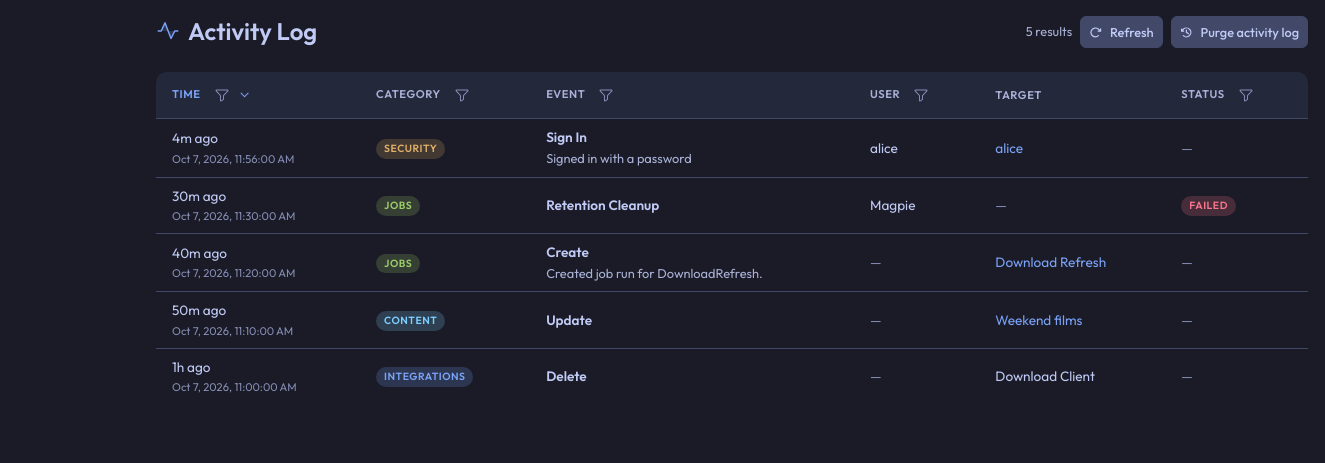
ActivityLogPage › WritesTheChoiceToTheUrl_WhenAColumnFilterIsChosen User Magpie
The width and height of the screenshot is (1325, 463).
Expected: the cell "Magpie" is shown, [854,177,979,233]
Click the button named "Filter by User".
click(921, 95)  # box [908,82,934,108]
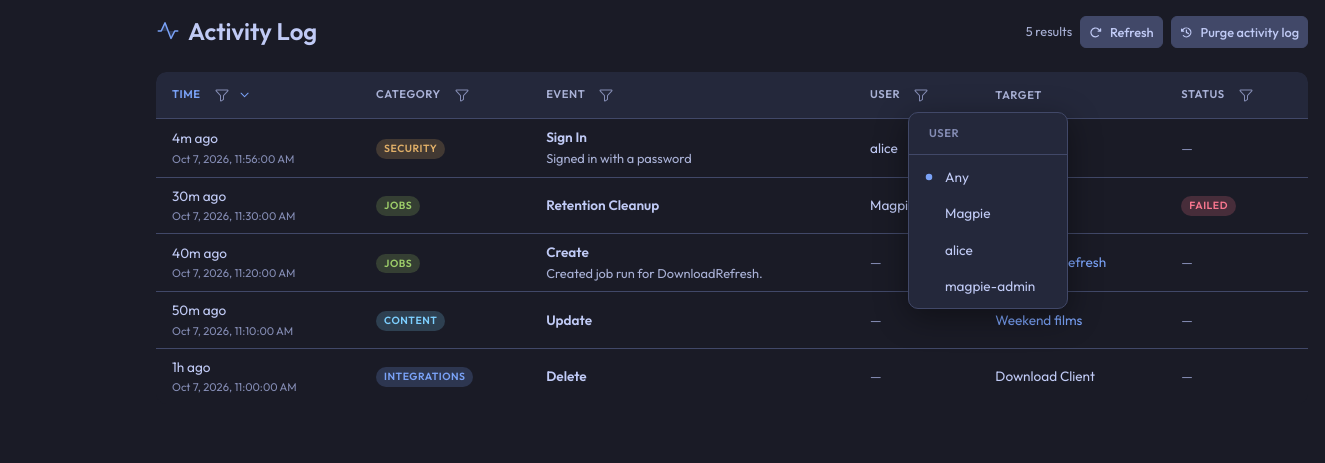
Click the menu item "Magpie".
click(968, 213)  # box [945,204,990,222]
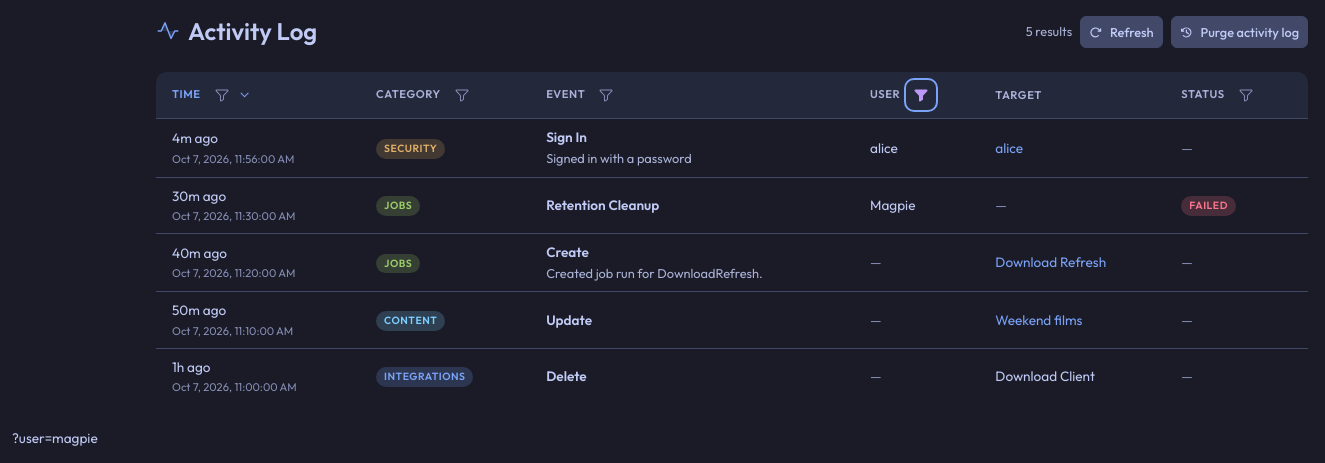
Expected: the text with test id "activity-log-page__location-search" reads "?user=magpie", [12,429,98,447]
